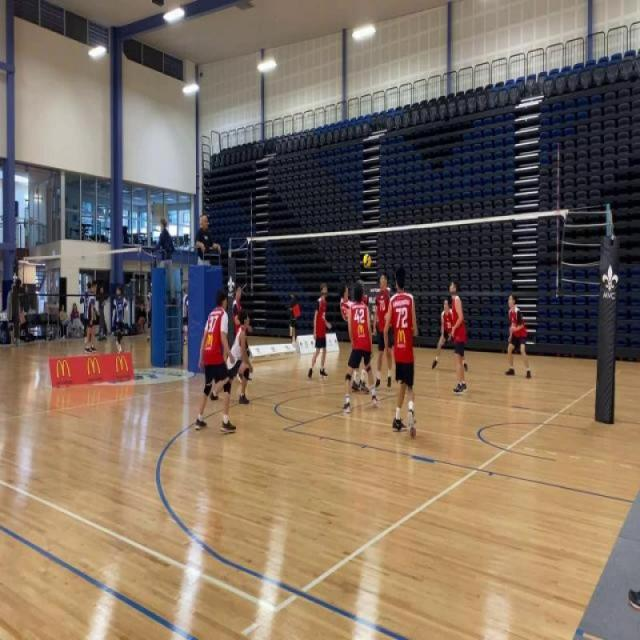volleyball: (361, 251, 374, 271)
